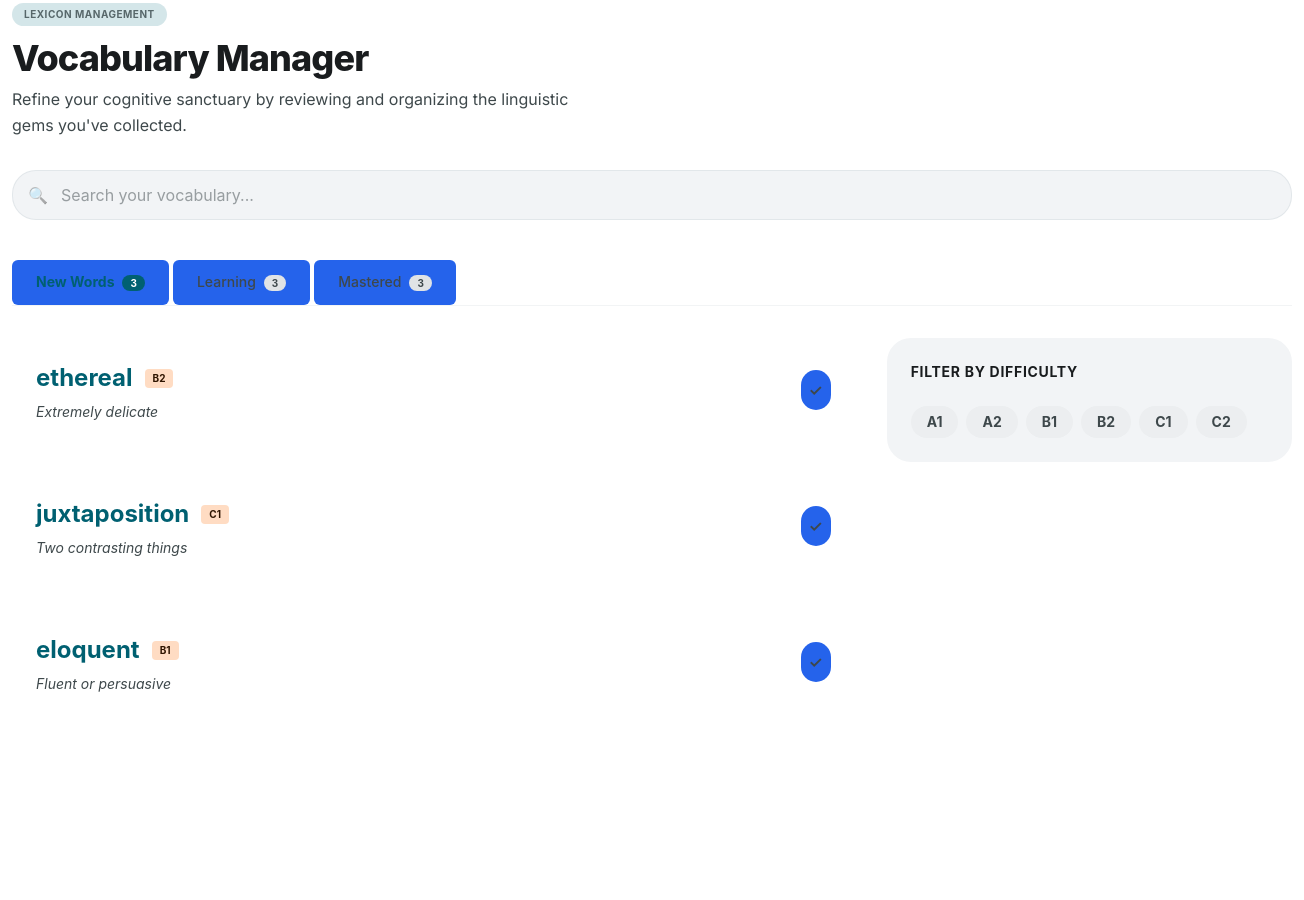
Test: VocabularyPage › switches to Mastered tab and shows only mastered words
Click the button with test id "tab-mastered" at (385, 282), box [314,260,456,305]
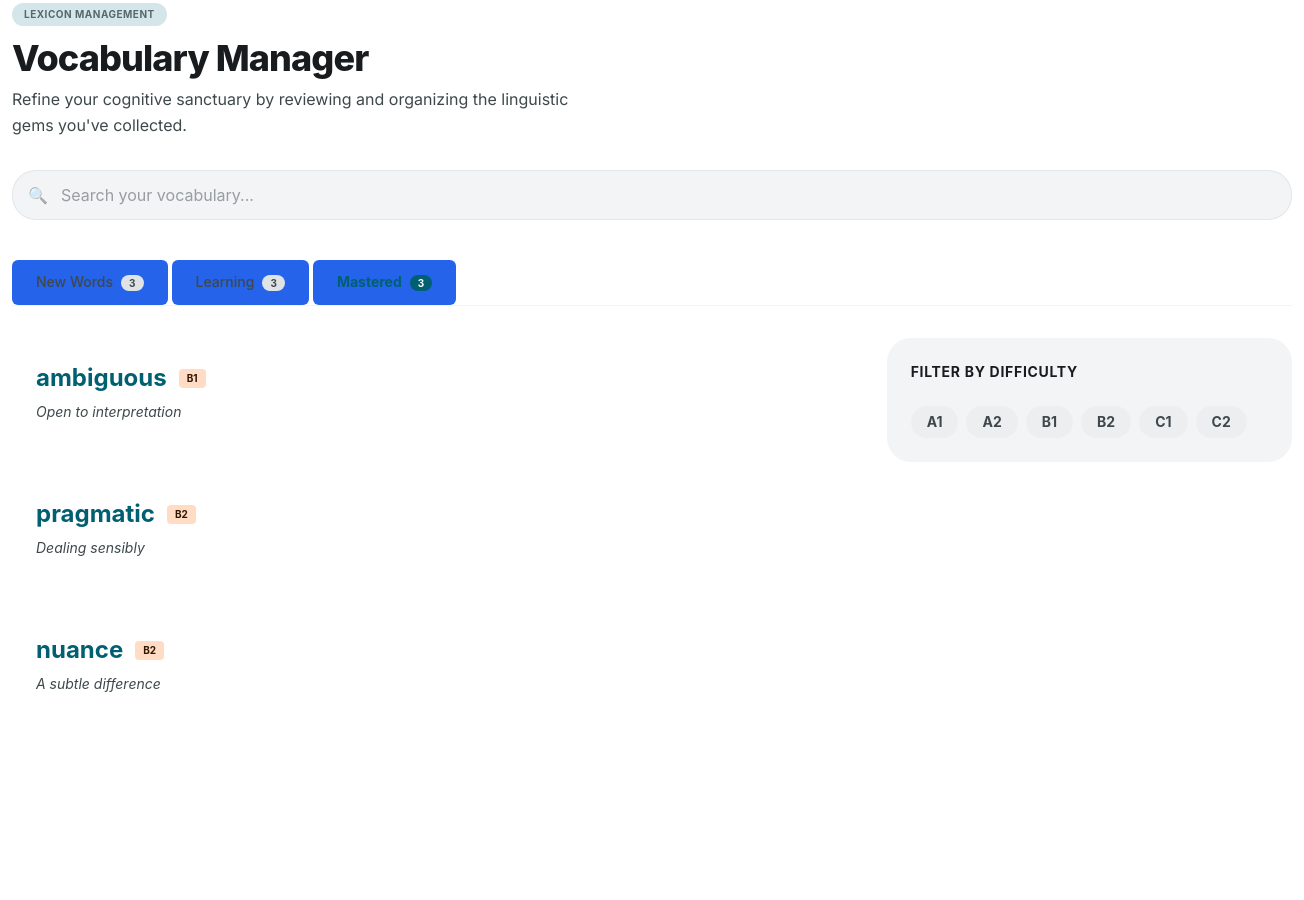
Expected: the heading "ambiguous" is shown, [36,362,167,394]
Expected: the heading "pragmatic" is shown, [36,498,155,530]
Expected: the heading "nuance" is shown, [36,634,123,666]
